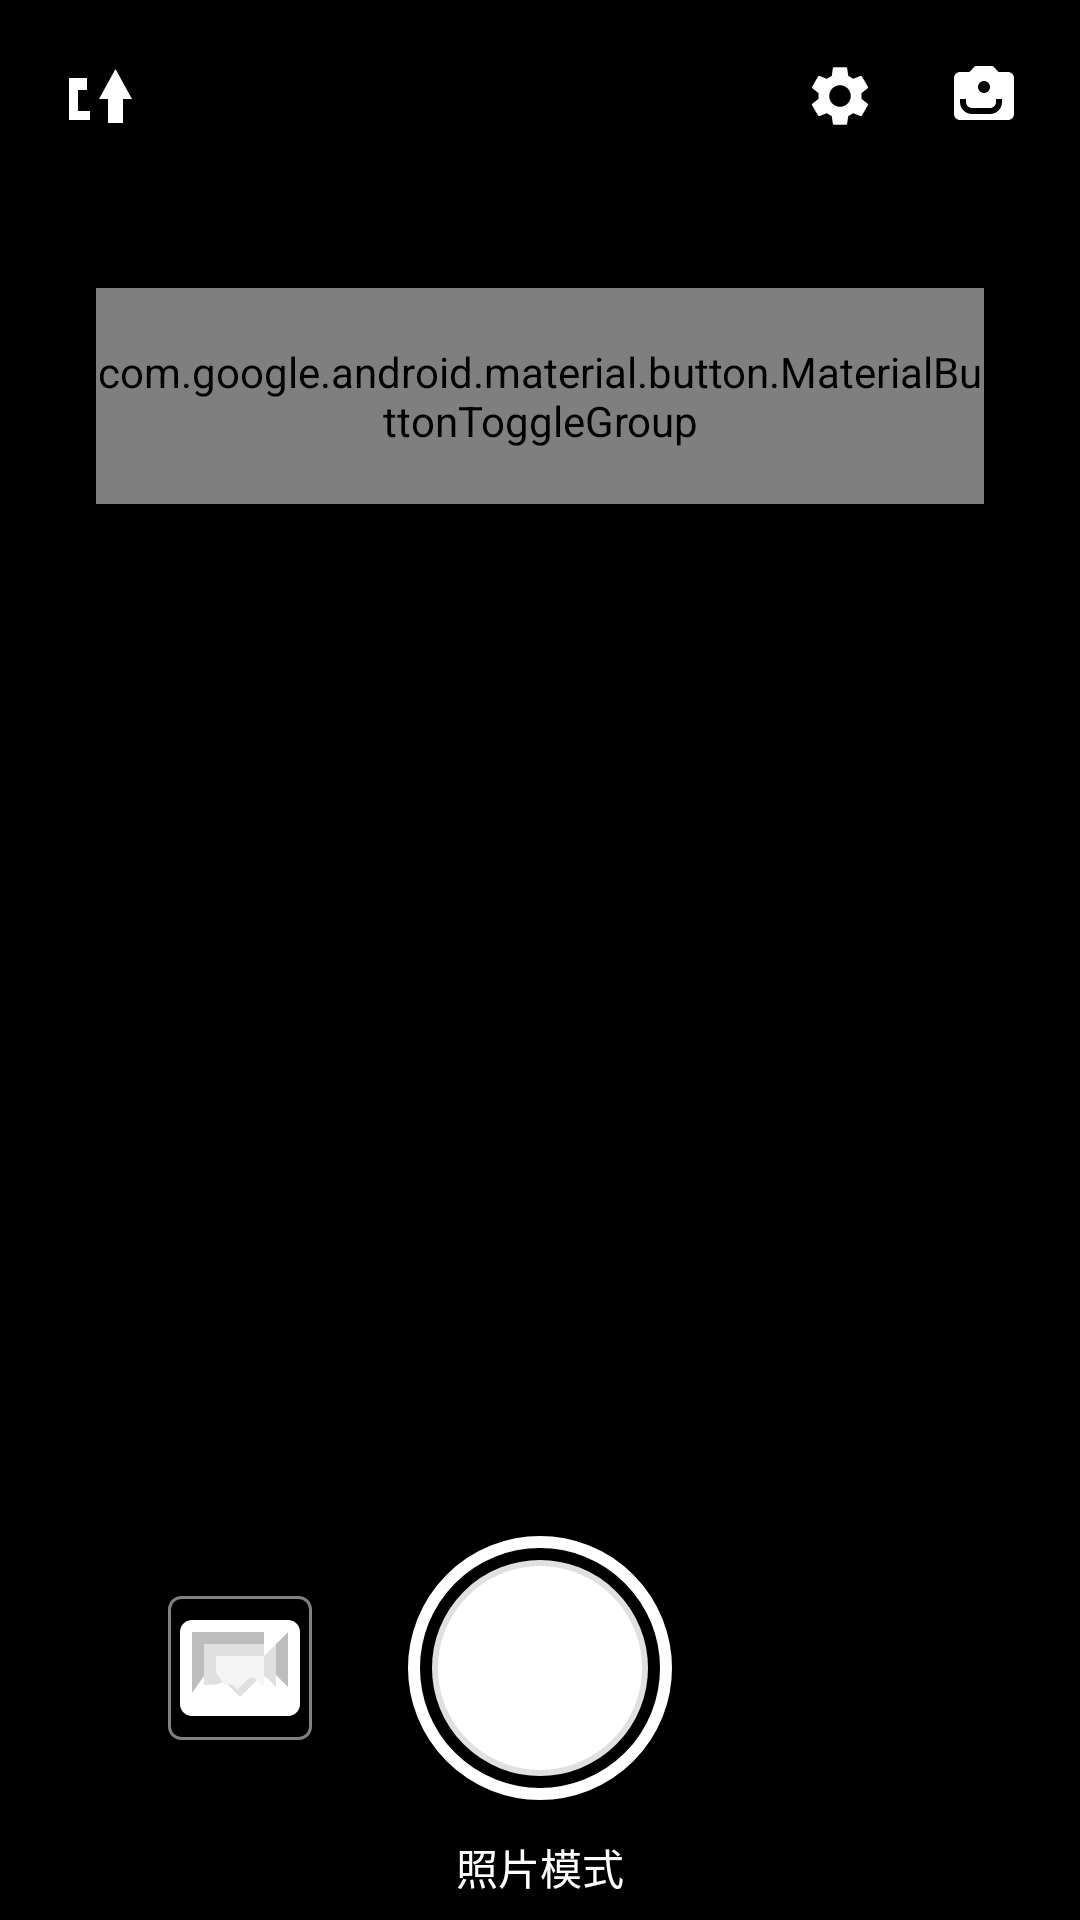

Screen size 1080px x 1920px. Icon name, then its center in pixels as [x,y]:
gallery: [240,1668]
settings: [840,96]
switch camera: [984,93]
